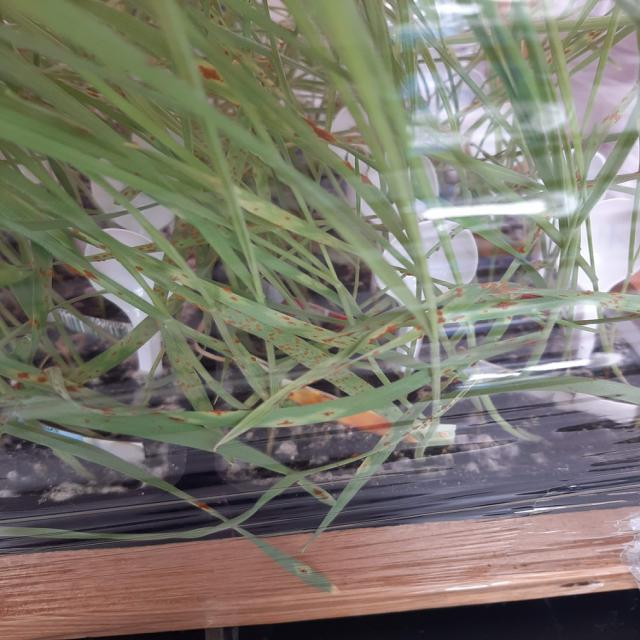wheat-stemrust: (213, 285, 360, 349), (216, 302, 333, 370), (64, 316, 159, 384), (369, 397, 461, 455), (125, 255, 210, 312), (441, 331, 543, 377), (593, 78, 640, 129), (551, 289, 640, 315), (164, 342, 207, 395), (32, 259, 55, 331), (448, 281, 537, 298), (264, 409, 345, 427), (327, 368, 377, 396), (564, 28, 607, 60), (301, 117, 343, 145), (12, 365, 53, 392), (197, 63, 230, 89), (519, 225, 544, 258), (368, 322, 401, 345), (170, 233, 211, 249), (434, 308, 472, 324), (78, 264, 106, 285), (292, 561, 315, 578), (132, 243, 164, 254), (312, 487, 334, 502), (83, 252, 116, 262), (202, 409, 234, 417), (493, 301, 516, 311), (190, 501, 209, 512), (340, 160, 357, 171), (362, 175, 373, 186)
